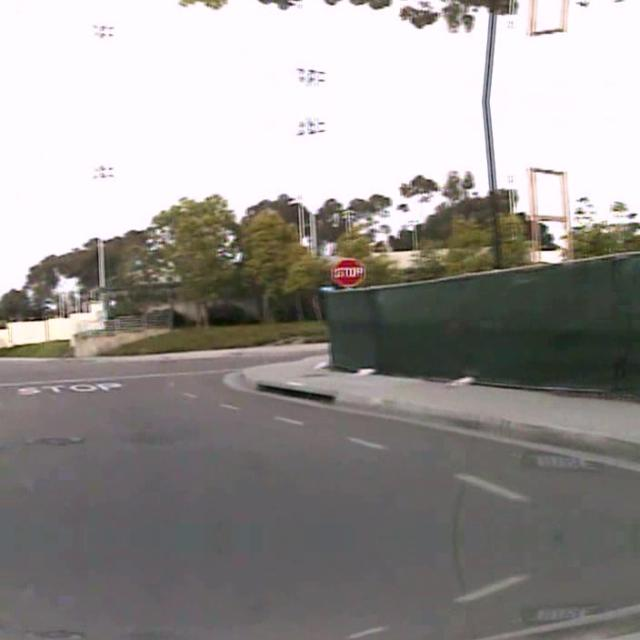stop: (332, 256, 364, 286)
